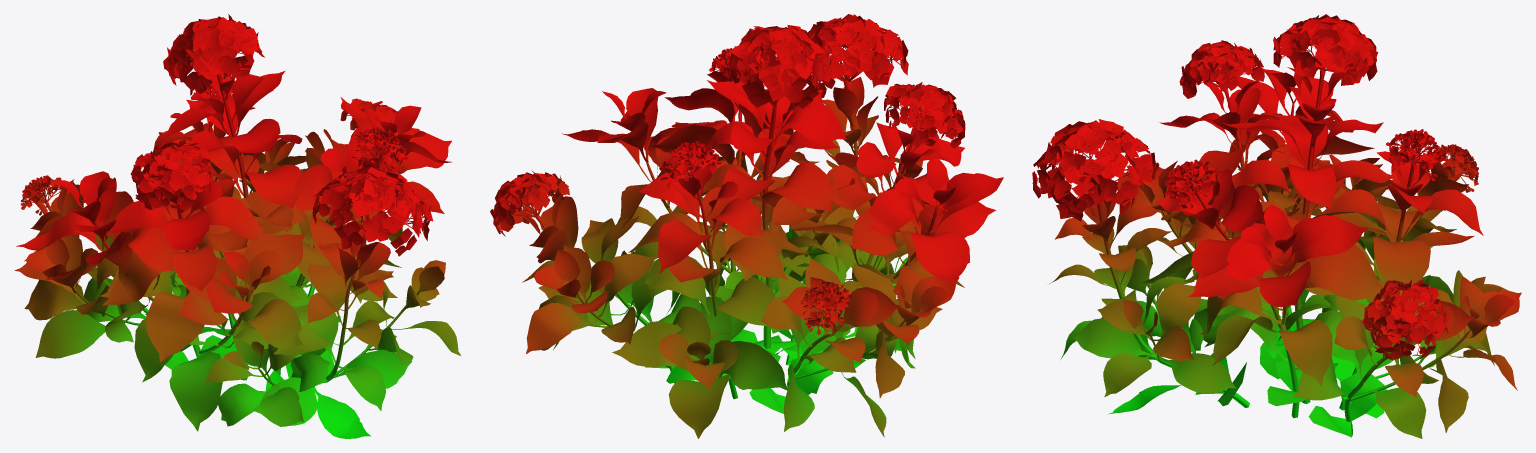
Rendered from Var4_LOD1.fbx.
3 renders of one model, left to right at view 1: azimuth 30°, elevation 25°; view 2: azimuth 150°, elevation 25°; view 3: azimuth 270°, elevation 25°, orthographic. The views are drawn at different scales.
Visible parts, largest first — view 1: _6orl_Var4_LOD1; view 2: _6orl_Var4_LOD1; view 3: _6orl_Var4_LOD1.
Part boxes in pixels (box(x1,y1,x2,y2)): _6orl_Var4_LOD1: box(14, 14, 460, 438); _6orl_Var4_LOD1: box(490, 14, 1003, 438); _6orl_Var4_LOD1: box(1032, 14, 1521, 438).
Bounding box in the file's own units: 129 × 106 × 125.
